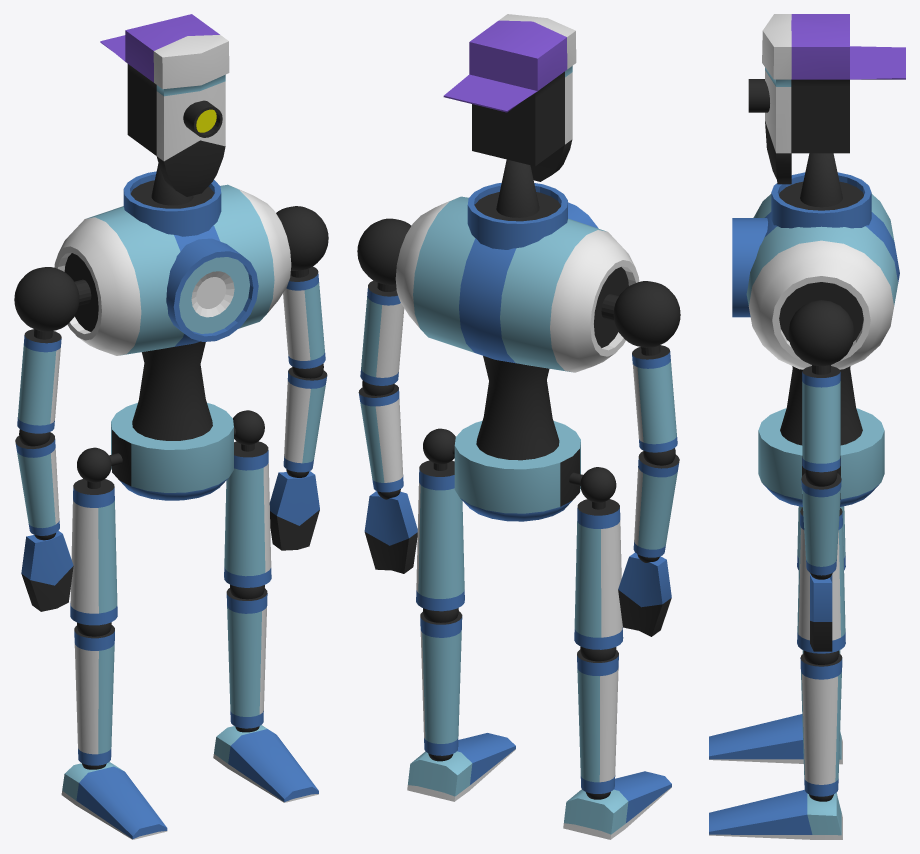
File: RON.fbx
3 views of the same model, side by side, from view 1: azimuth 30°, elevation 25°; view 2: azimuth 150°, elevation 25°; view 3: azimuth 270°, elevation 25° (orthographic). The views are drawn at different scales.
Visible parts, largest first — view 1: RON; view 2: RON; view 3: RON.
Boxes of the visible parts, bbox=[...] form: RON: bbox=[14, 14, 328, 839]; RON: bbox=[357, 14, 680, 839]; RON: bbox=[709, 14, 905, 839].
Bounding box in the file's own units: 4.97 × 11.66 × 2.71.
